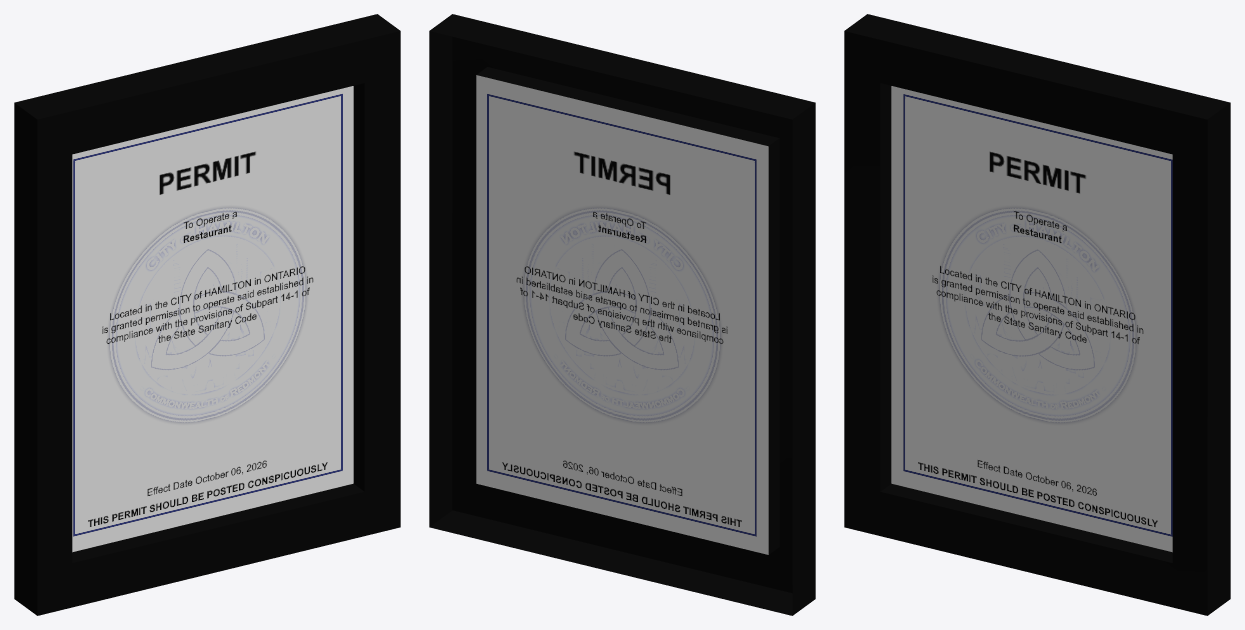
Rendered from Permit.fbx.
The picture shows the model from 3 angles, left to right: view 1: azimuth 30°, elevation 25°; view 2: azimuth 150°, elevation 25°; view 3: azimuth 330°, elevation 25°; orthographic projection.
Parts seen in each view (by area): view 1: Permit; view 2: Permit; view 3: Permit.
Part boxes in pixels (x1,y1,x2,y2): Permit: (14, 14, 400, 615); Permit: (429, 14, 815, 615); Permit: (844, 14, 1230, 615).
Bounding box in the file's own units: 39.98 × 52.18 × 4.44.
